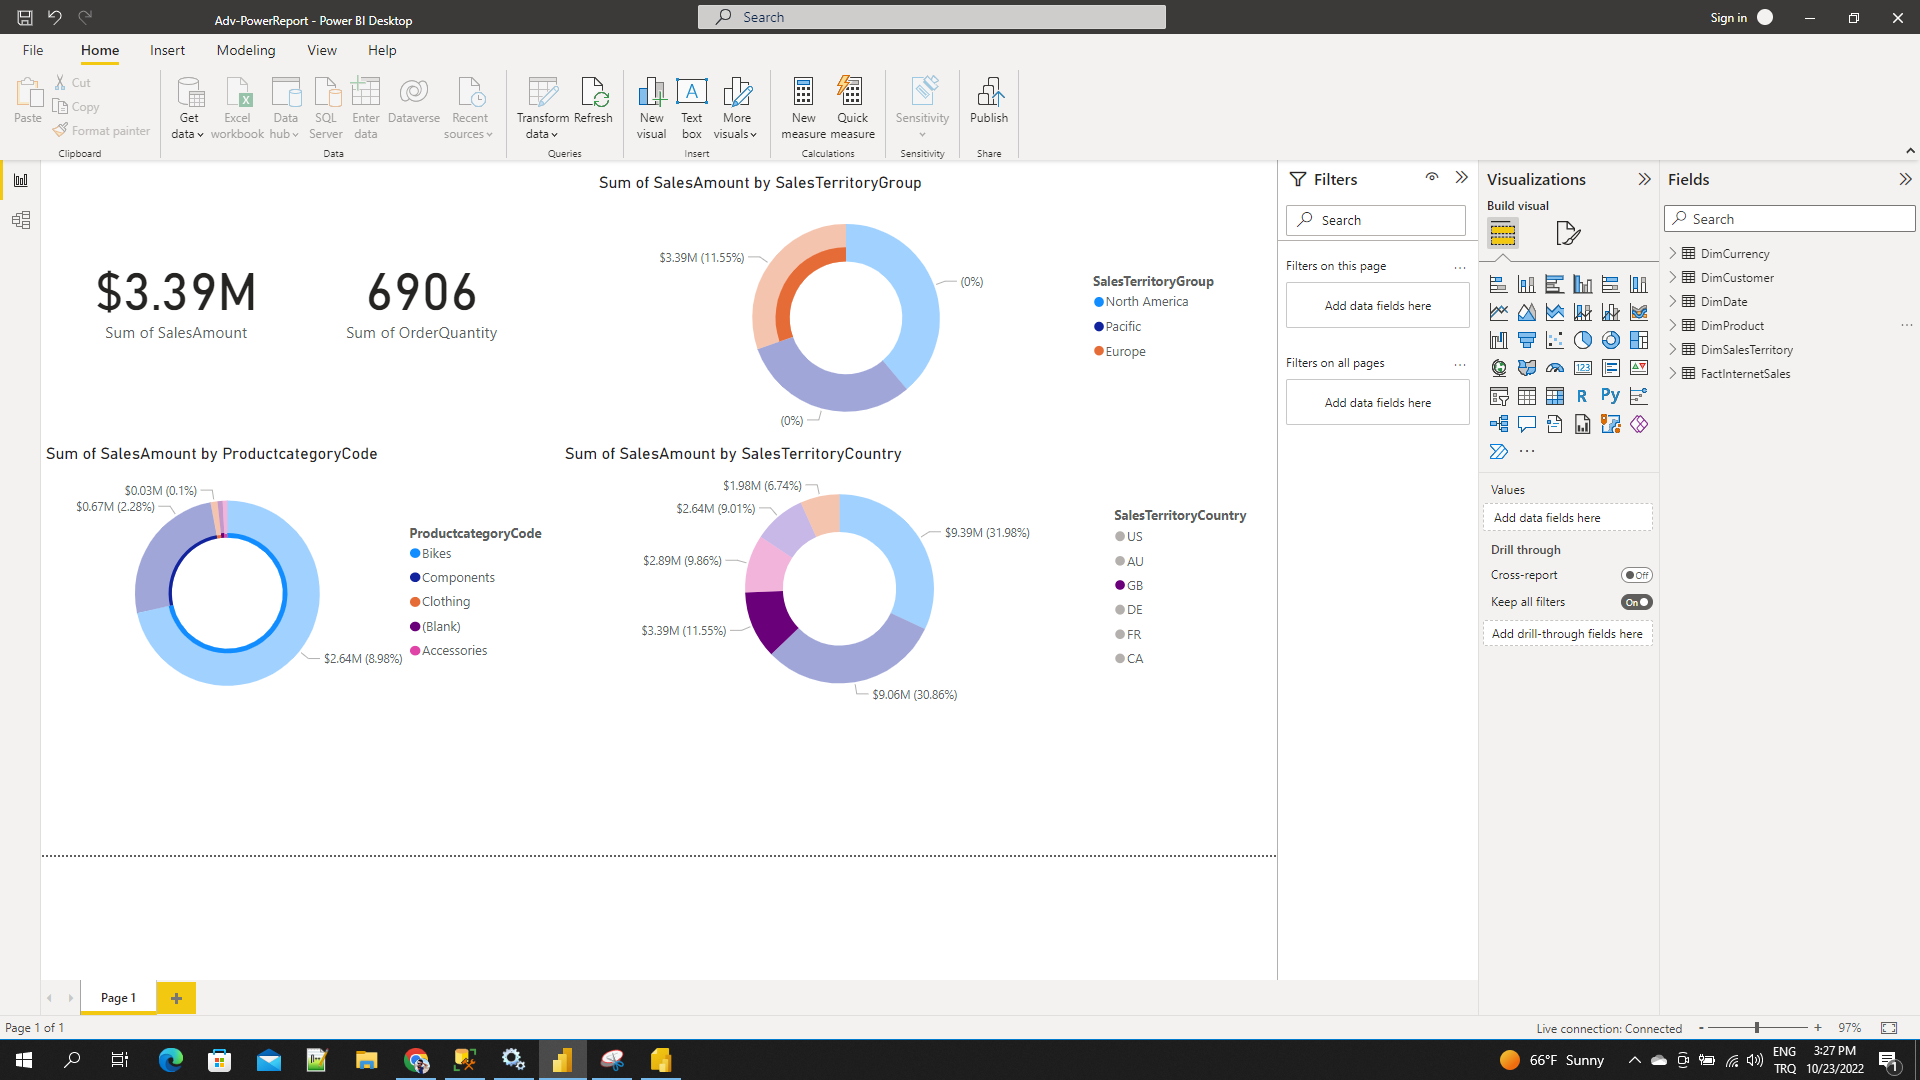

The dashboard page shown, as its layout file describes it:
{"tool":"powerbi","page":{"name":"Page 1","canvas":[1280,720],"ordinal":0},"visuals":[{"type":"card","fields":{"Values":["Sum(FactInternetSales.SalesAmount)"]},"box":[0,0,280.3,280.3],"z":0},{"type":"donutChart","fields":{"Category":["DimSalesTerritory.SalesTerritoryCountry"],"Y":["Sum(FactInternetSales.SalesAmount)"]},"box":[537.5,294.1,727,280.6],"z":1000},{"type":"card","fields":{"Values":["Sum(FactInternetSales.OrderQuantity)"]},"box":[253.7,0,280.6,279.6],"z":2000},{"type":"donutChart","fields":{"Category":["DimSalesTerritory.SalesTerritoryGroup"],"Y":["Sum(FactInternetSales.SalesAmount)"]},"box":[572.7,13.5,659.7,280.6],"z":4000},{"type":"donutChart","fields":{"Y":["Sum(FactInternetSales.SalesAmount)"],"Category":["DimProduct.ProductcategoryCode"]},"box":[0,294.1,537.5,290],"z":4001}]}

Visuals, with their boxes on the page's 1280x720 design canvas (x1, y1, x2, y2). These are canvas units, not pixel positions in the 1920x1080 screenshot, which may show the page scaled, cropped or inside an application window:
card - Sum(FactInternetSales.SalesAmount): pyautogui.locateOnScreen(0, 0, 280, 280)
donutChart - DimSalesTerritory.SalesTerritoryCountry x Sum(FactInternetSales.SalesAmount): pyautogui.locateOnScreen(538, 294, 1264, 575)
card - Sum(FactInternetSales.OrderQuantity): pyautogui.locateOnScreen(254, 0, 534, 280)
donutChart - DimSalesTerritory.SalesTerritoryGroup x Sum(FactInternetSales.SalesAmount): pyautogui.locateOnScreen(573, 14, 1232, 294)
donutChart - Sum(FactInternetSales.SalesAmount) x DimProduct.ProductcategoryCode: pyautogui.locateOnScreen(0, 294, 538, 584)
